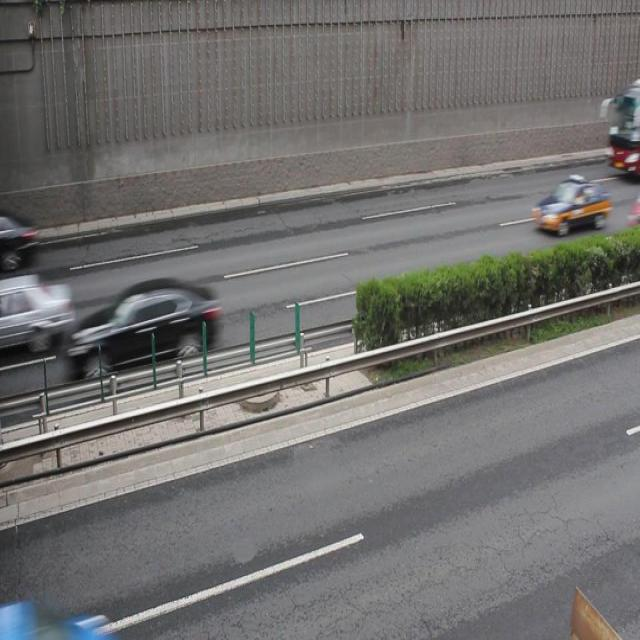car: (68, 280, 219, 370), (1, 272, 71, 355), (534, 176, 603, 234), (1, 215, 34, 269)
